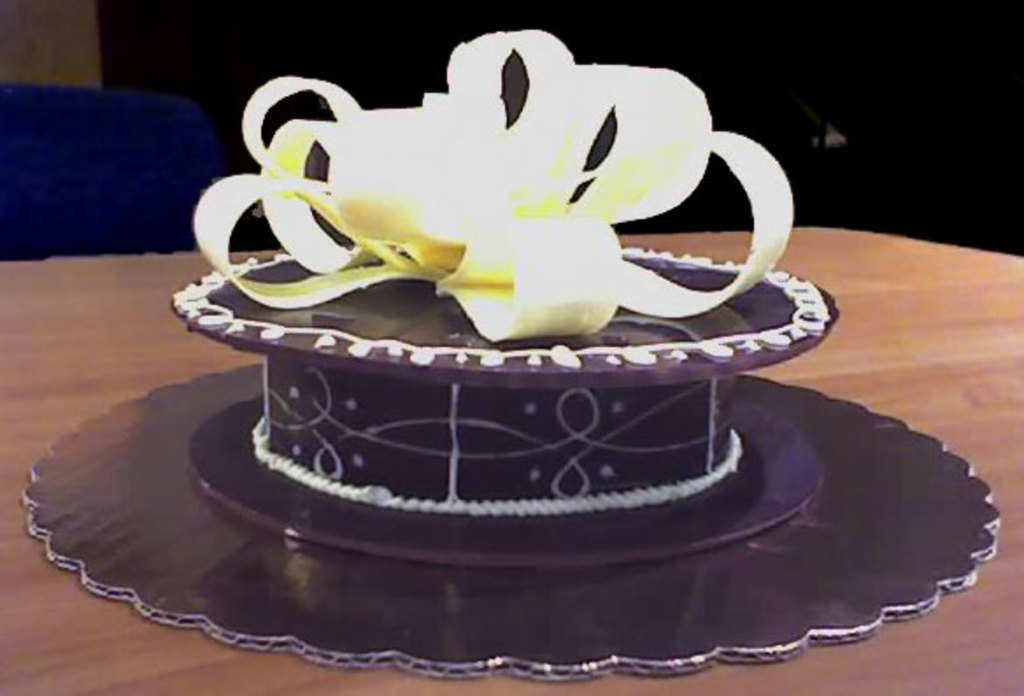cake: (165, 25, 842, 572)
